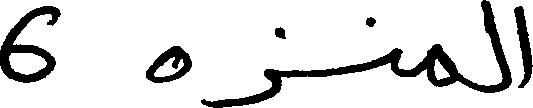X: (203, 22, 281, 107), (0, 1, 58, 87), (481, 0, 511, 97), (147, 41, 192, 87), (514, 1, 532, 92), (428, 39, 457, 91), (385, 43, 402, 81)
